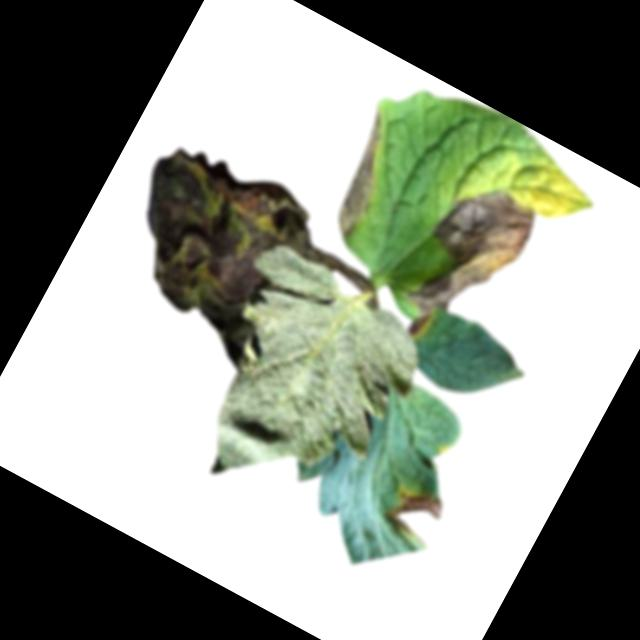Early_blight: (93, 126, 360, 376), (403, 175, 543, 341), (314, 114, 409, 243), (381, 481, 449, 547), (402, 308, 432, 342)
healthy: (155, 236, 442, 538)
